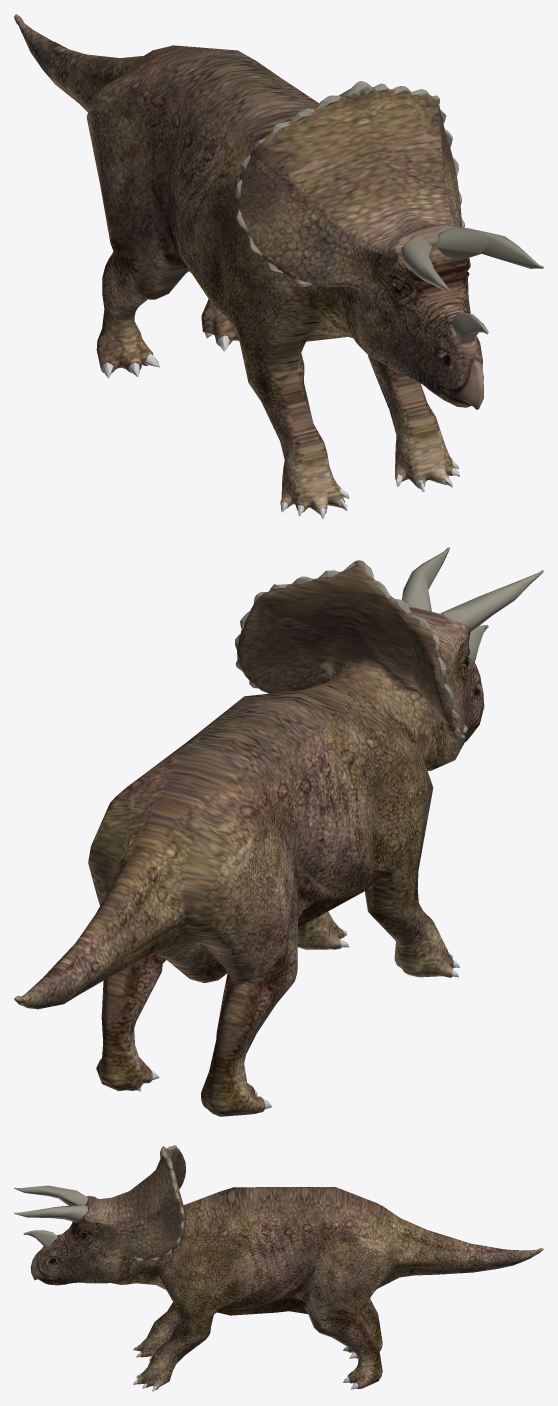
The model's file is TRICERA_(1).fbx.
The picture shows the model from 3 angles, top to bottom: view 1: azimuth 30°, elevation 25°; view 2: azimuth 150°, elevation 25°; view 3: azimuth 270°, elevation 25°; orthographic projection. The views are drawn at different scales.
Parts seen in each view (by area): view 1: TRIDori, TRICuerI, TRICrest, TRICuerD, TRICuerC; view 2: TRIDori, TRICuerD, TRICrest, TRICuerI; view 3: TRIDori, TRICuerI, TRICuerD, TRICrest, TRICuerC.
Boxes of the visible parts, bbox=[...] form: TRIDori: bbox=[14, 14, 483, 514]; TRICuerI: bbox=[437, 226, 543, 268]; TRICrest: bbox=[235, 81, 464, 286]; TRICuerD: bbox=[401, 236, 449, 291]; TRICuerC: bbox=[451, 311, 488, 341]; TRIDori: bbox=[14, 564, 484, 1116]; TRICuerD: bbox=[440, 570, 543, 632]; TRICrest: bbox=[235, 560, 467, 740]; TRICuerI: bbox=[402, 547, 449, 611]; TRIDori: bbox=[30, 1148, 543, 1389]; TRICuerI: bbox=[14, 1204, 87, 1222]; TRICuerD: bbox=[14, 1185, 88, 1205]; TRICrest: bbox=[133, 1145, 184, 1261]; TRICuerC: bbox=[23, 1230, 57, 1247].
Bounding box in the file's own units: 7000 × 12157 × 26306.
